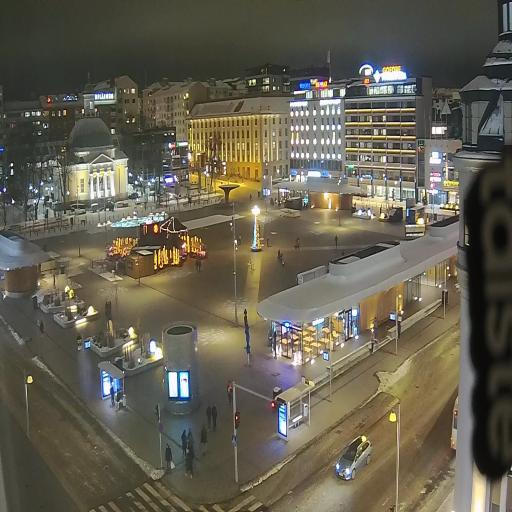Bus: (450, 396, 458, 449)
